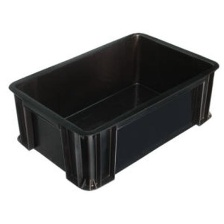plastic_box: (3, 24, 224, 197)
